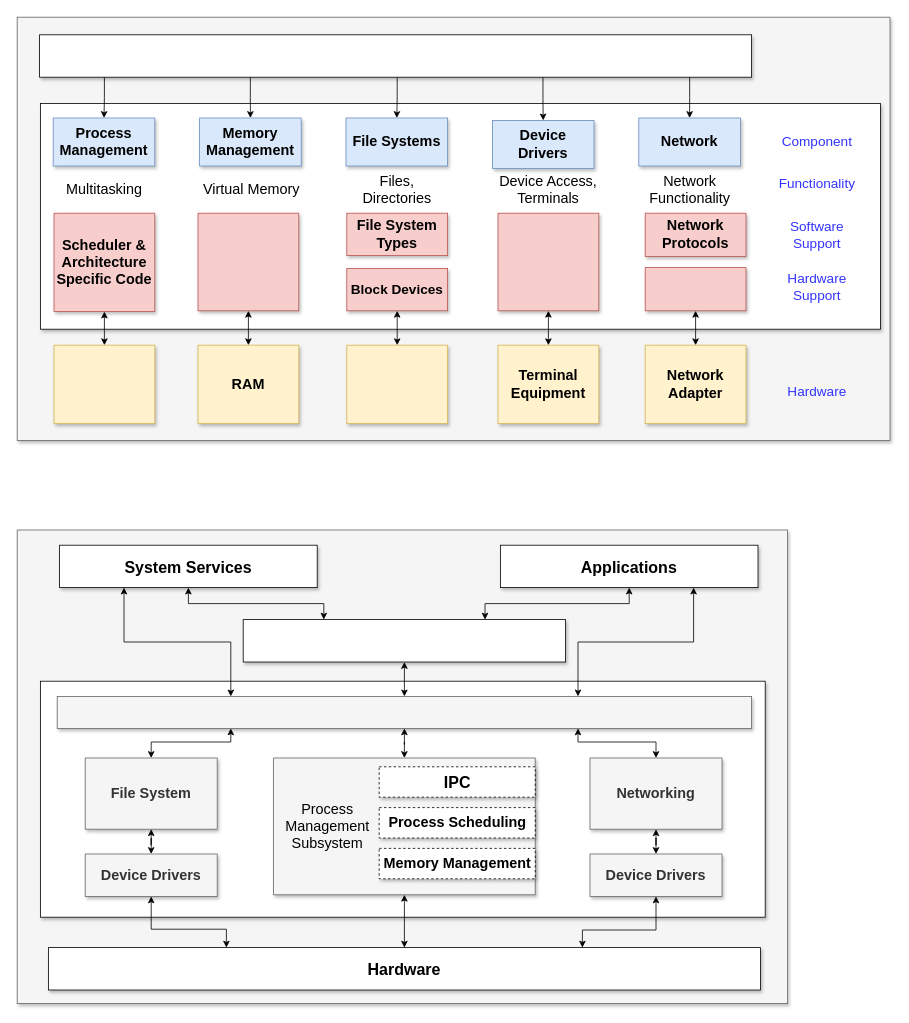
The diagram is 909 pixels wide and 1023 high, and some of its shapes have lost their labels. The centre of each missing label's shape, as x and y in pixels:
"Applications & Tools" goes at pixel 396 57.
"Character Devices" goes at pixel 549 262.
"CPU" goes at pixel 105 385.
"Hard Disk, CD, Floppy Disk" goes at pixel 397 385.
"Libraries" goes at pixel 404 642.
"Memory Manager" goes at pixel 249 262.
"Network Drivers" goes at pixel 696 290.
"System Calls" goes at pixel 404 713.
